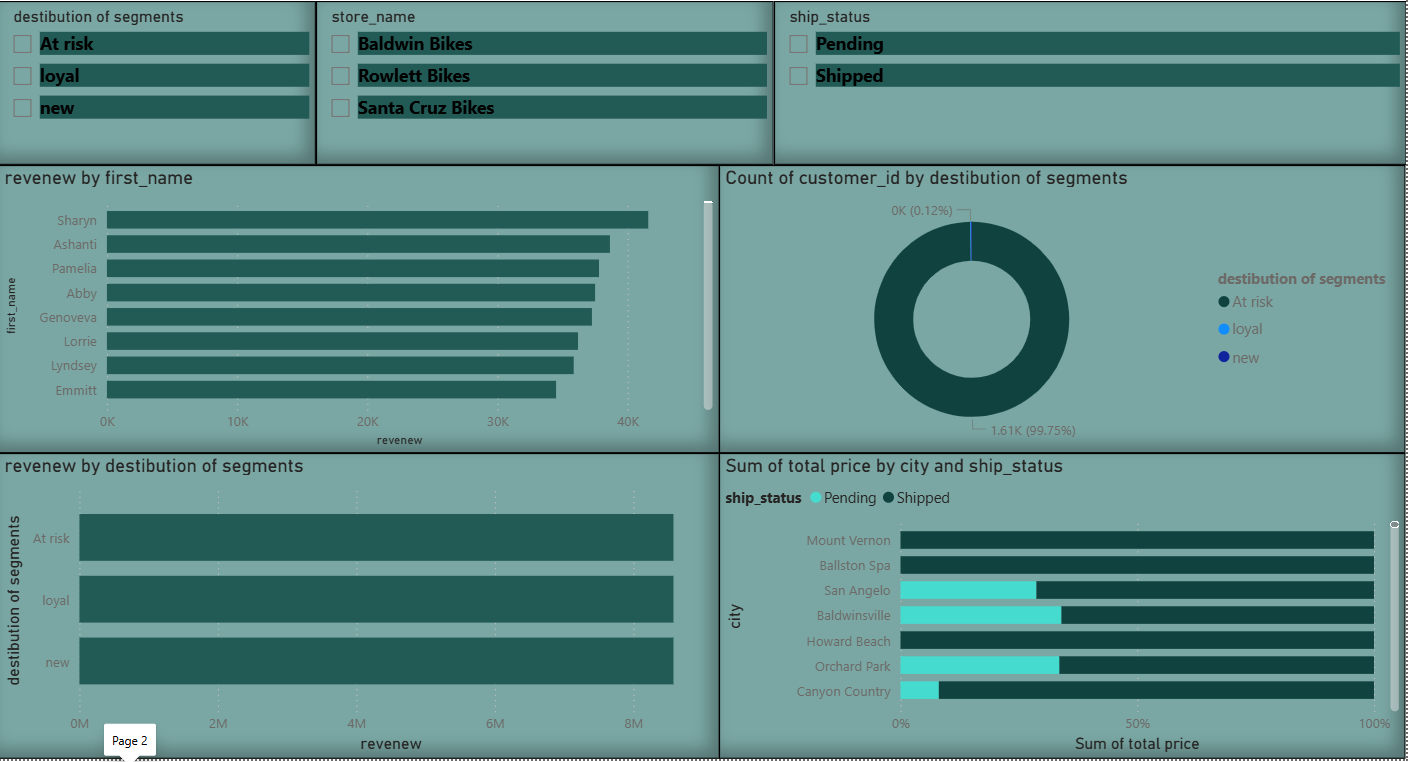

Layout of this report page (visuals, bound fields, positions):
{"tool":"powerbi","page":{"name":"Page 2","canvas":[1280,720],"ordinal":1},"visuals":[{"type":"barChart","fields":{"Category":["retail_sales customers.first_name"],"Y":["retail_sales brands.revenew"]},"box":[0,179.9,655.6,261.6],"z":0},{"type":"donutChart","fields":{"Category":["retail_sales customer_segments.destibution of segments"],"Y":["CountNonNull(retail_sales customer_segments.customer_id)"]},"box":[655.6,179.9,624.4,261.6],"z":1000},{"type":"barChart","fields":{"Category":["retail_sales customer_segments.destibution of segments"],"Y":["retail_sales brands.revenew"]},"box":[0,441.6,655.6,278.2],"z":2000},{"type":"hundredPercentStackedBarChart","fields":{"Category":["retail_sales customers.city"],"Series":["retail_sales orders.ship_status"],"Y":["Sum(retail_sales order_items.total price)"]},"box":[655.6,441.6,624.4,278.2],"z":3000},{"type":"slicer","fields":{"Values":["retail_sales customer_segments.destibution of segments"]},"box":[0,31.1,288.9,148.8],"z":4000},{"type":"slicer","fields":{"Values":["retail_sales orders.ship_status"]},"box":[705.2,31.1,574.8,148.8],"z":5000},{"type":"slicer","fields":{"Values":["retail_sales stores.store_name"]},"box":[288.9,31.1,416.3,148.8],"z":6000}]}

Visuals, with their boxes on the page's 1280x720 design canvas (x1, y1, x2, y2). These are canvas units, not pixel positions in the 1414x762 screenshot, which may show the page scaled, cropped or inside an application window:
barChart - retail_sales customers.first_name x retail_sales brands.revenew: bbox(0, 180, 656, 442)
donutChart - retail_sales customer_segments.destibution of segments x CountNonNull(retail_sales customer_segments.customer_id): bbox(656, 180, 1280, 442)
barChart - retail_sales customer_segments.destibution of segments x retail_sales brands.revenew: bbox(0, 442, 656, 720)
hundredPercentStackedBarChart - retail_sales customers.city x retail_sales orders.ship_status: bbox(656, 442, 1280, 720)
slicer - retail_sales customer_segments.destibution of segments: bbox(0, 31, 289, 180)
slicer - retail_sales orders.ship_status: bbox(705, 31, 1280, 180)
slicer - retail_sales stores.store_name: bbox(289, 31, 705, 180)
